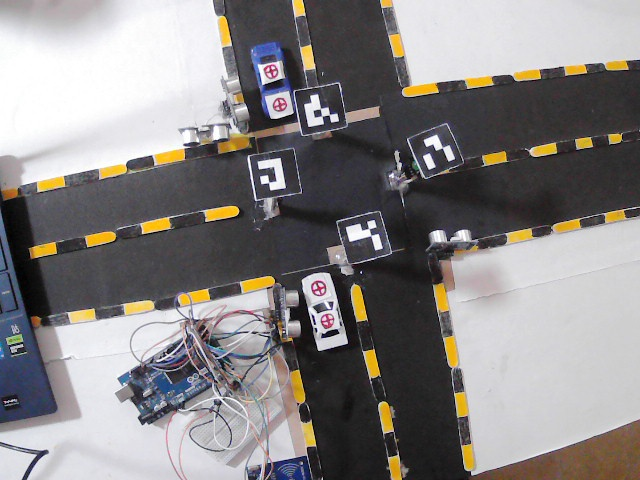aruco_marker: (335, 210, 395, 266), (407, 121, 463, 180), (296, 81, 348, 136), (249, 148, 303, 200)
emergency_vehicle: (303, 271, 353, 355), (246, 37, 296, 118)
uno_breadboard: (113, 321, 236, 427), (182, 373, 287, 467), (270, 284, 304, 338), (246, 453, 314, 480), (220, 73, 250, 133), (176, 120, 232, 147), (425, 228, 476, 257)
